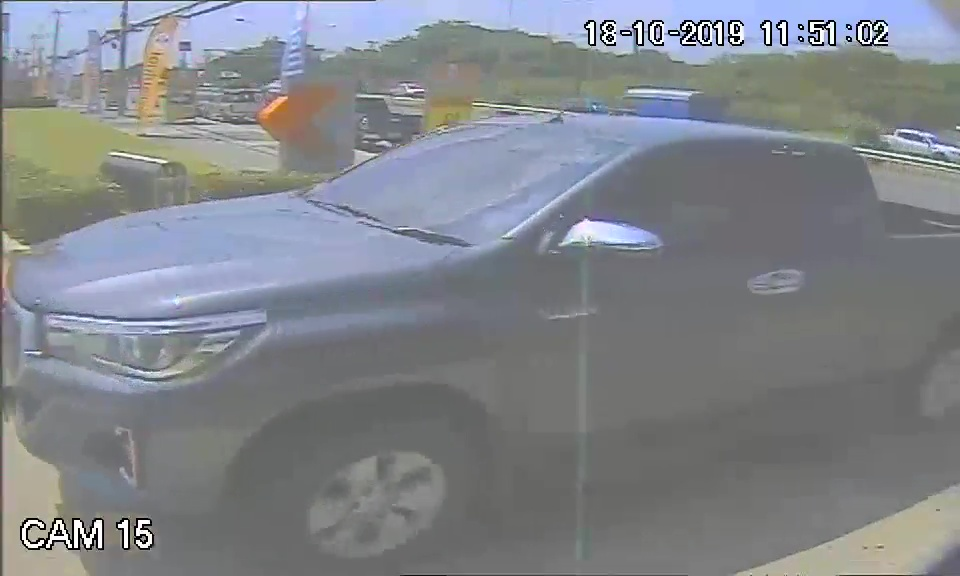pickup: (9, 105, 885, 521)
